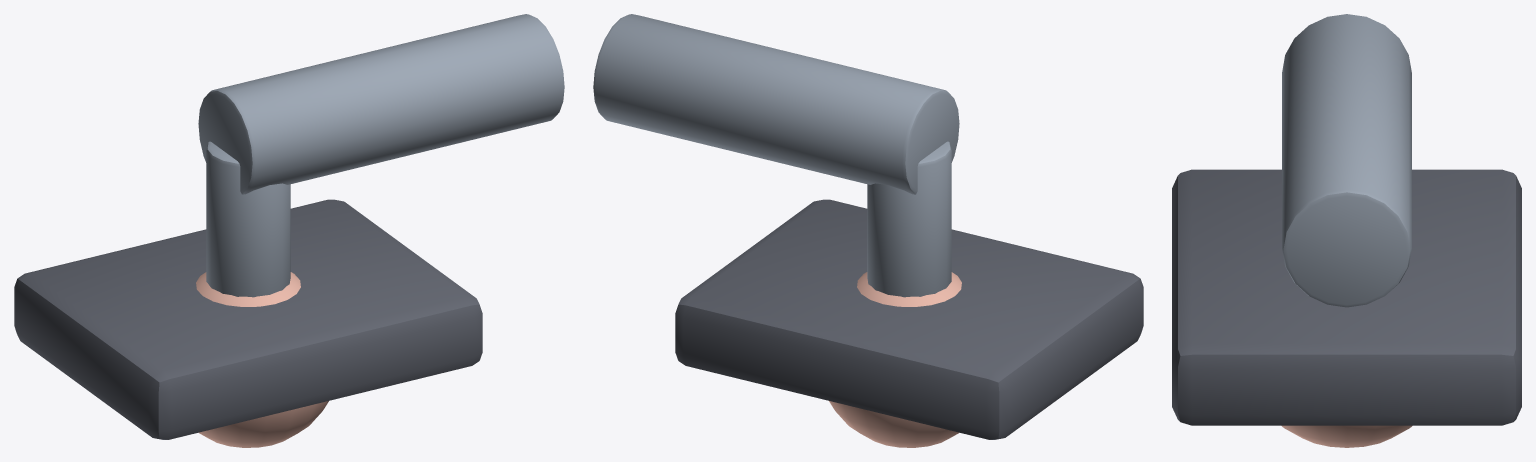
The model's file is projectile_apparatus.glb.
The picture shows the model from 3 angles, left to right: view 1: azimuth 30°, elevation 25°; view 2: azimuth 150°, elevation 25°; view 3: azimuth 270°, elevation 25°; orthographic projection. The views are drawn at different scales.
Visible parts, largest first — view 1: Launcher_Base, Launcher_Barrel, Launcher_Column, Ball; view 2: Launcher_Base, Launcher_Barrel, Launcher_Column, Ball; view 3: Launcher_Base, Launcher_Barrel, Ball.
Part boxes in pixels (bbox=[...]): Launcher_Base: bbox=[14, 199, 482, 439]; Launcher_Barrel: bbox=[198, 14, 564, 194]; Launcher_Column: bbox=[206, 141, 290, 297]; Ball: bbox=[196, 272, 328, 447]; Launcher_Base: bbox=[675, 199, 1143, 439]; Launcher_Barrel: bbox=[593, 14, 959, 194]; Launcher_Column: bbox=[867, 141, 951, 297]; Ball: bbox=[829, 272, 961, 447]; Launcher_Base: bbox=[1172, 169, 1521, 425]; Launcher_Barrel: bbox=[1282, 14, 1411, 307]; Ball: bbox=[1281, 425, 1412, 447].
Bounding box in the file's own units: 1.24 × 0.91 × 0.7.
